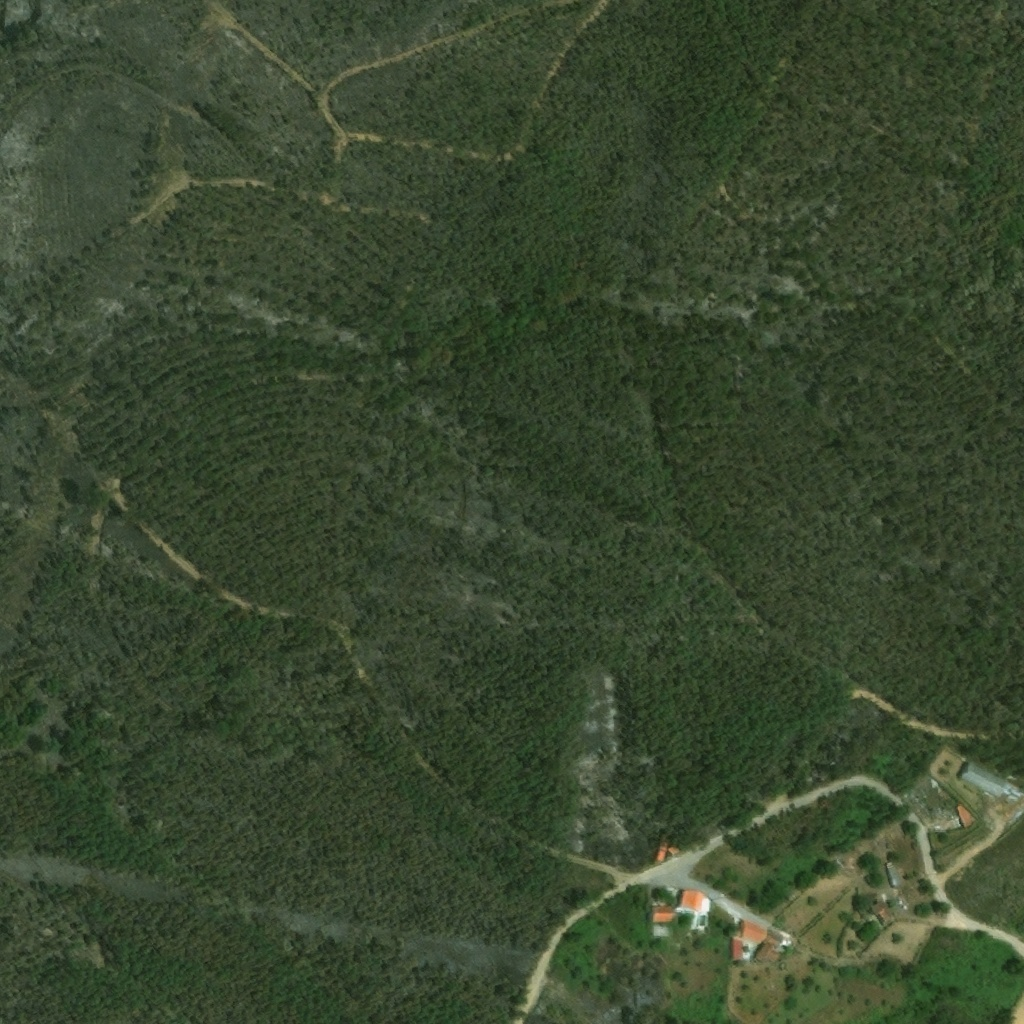0 no-damage: (956, 762, 1006, 801), (753, 932, 782, 967), (676, 891, 710, 916), (736, 920, 768, 946), (868, 902, 893, 928), (955, 806, 976, 830), (648, 906, 675, 924), (649, 926, 668, 939), (667, 842, 681, 857)
1 minor-damage: (654, 830, 668, 863)
